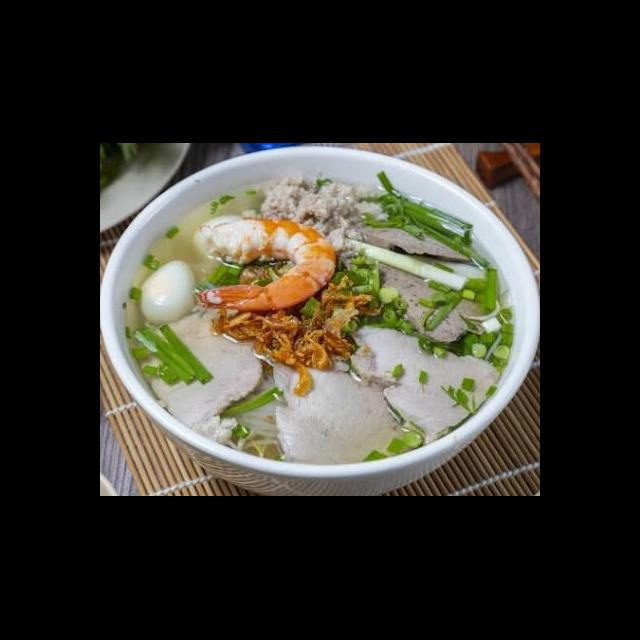gan: (362, 252, 498, 346), (347, 222, 473, 266)
thit bam: (250, 170, 398, 264)
thit heo: (345, 322, 503, 448), (270, 356, 428, 474), (139, 315, 259, 432)
tom: (189, 213, 339, 314)
trung: (137, 258, 202, 328)
